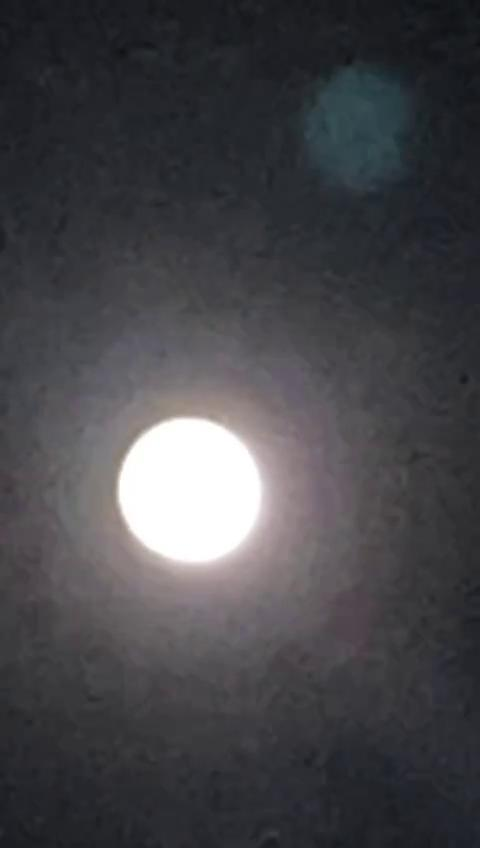moon: (114, 392, 280, 584)
